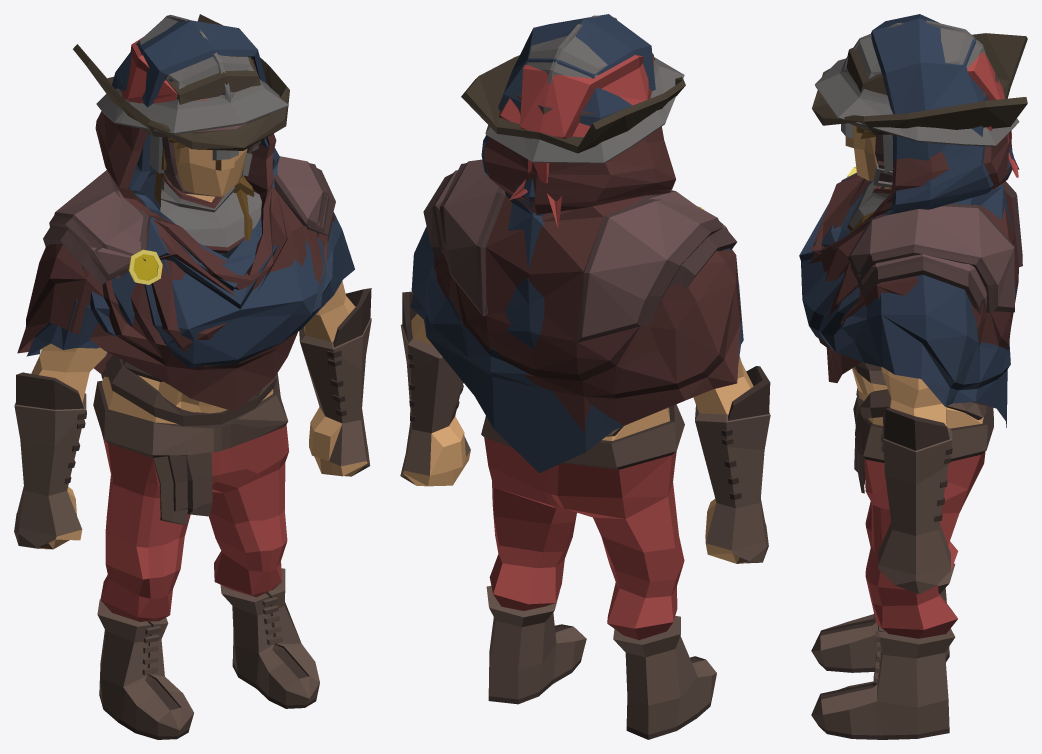
The model's file is HATS_Warrior_female.fbx.
3 views of the same model, side by side, from view 1: azimuth 30°, elevation 25°; view 2: azimuth 150°, elevation 25°; view 3: azimuth 270°, elevation 25° (orthographic). The views are drawn at different scales.
Visible parts, largest first — view 1: warrior_02a_female03_hats:warrior_female, warrior_02a_female03_hats:shall1, warrior_02a_female03_hats:shall2, warrior_02a_female03_hats:pothelm, warrior_02a_female03_hats:huntershat, warrior_02a_female03_hats:chainhelm, warrior_02a_female03_hats:bandana, warrior_02a_female03_hats:warrior_female_hair; view 2: warrior_02a_female03_hats:warrior_female, warrior_02a_female03_hats:shall1, warrior_02a_female03_hats:shall2, warrior_02a_female03_hats:bandana, warrior_02a_female03_hats:pothelm, warrior_02a_female03_hats:huntershat; view 3: warrior_02a_female03_hats:warrior_female, warrior_02a_female03_hats:shall2, warrior_02a_female03_hats:shall1, warrior_02a_female03_hats:pothelm, warrior_02a_female03_hats:huntershat, warrior_02a_female03_hats:chainhelm, warrior_02a_female03_hats:bandana.
Part boxes in pixels (<box>): warrior_02a_female03_hats:warrior_female: <box>14,142,371,739</box>; warrior_02a_female03_hats:shall1: <box>17,59,334,411</box>; warrior_02a_female03_hats:shall2: <box>26,20,354,370</box>; warrior_02a_female03_hats:pothelm: <box>96,14,288,196</box>; warrior_02a_female03_hats:huntershat: <box>73,14,289,150</box>; warrior_02a_female03_hats:chainhelm: <box>149,135,261,253</box>; warrior_02a_female03_hats:bandana: <box>120,37,207,103</box>; warrior_02a_female03_hats:warrior_female_hair: <box>155,171,254,241</box>; warrior_02a_female03_hats:warrior_female: <box>400,291,770,739</box>; warrior_02a_female03_hats:shall1: <box>433,104,741,433</box>; warrior_02a_female03_hats:shall2: <box>410,14,743,473</box>; warrior_02a_female03_hats:bandana: <box>498,54,653,227</box>; warrior_02a_female03_hats:pothelm: <box>485,15,684,163</box>; warrior_02a_female03_hats:huntershat: <box>461,53,685,153</box>; warrior_02a_female03_hats:warrior_female: <box>811,125,993,739</box>; warrior_02a_female03_hats:shall2: <box>799,14,1016,427</box>; warrior_02a_female03_hats:shall1: <box>808,79,1022,427</box>; warrior_02a_female03_hats:pothelm: <box>815,20,1019,187</box>; warrior_02a_female03_hats:huntershat: <box>812,33,1027,134</box>; warrior_02a_female03_hats:chainhelm: <box>841,123,893,230</box>; warrior_02a_female03_hats:bandana: <box>967,52,1019,177</box>.
Size of the model in its own units: 506 by 903 by 277.
